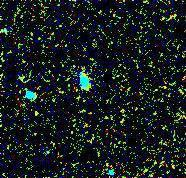star: (24, 77, 54, 107)
